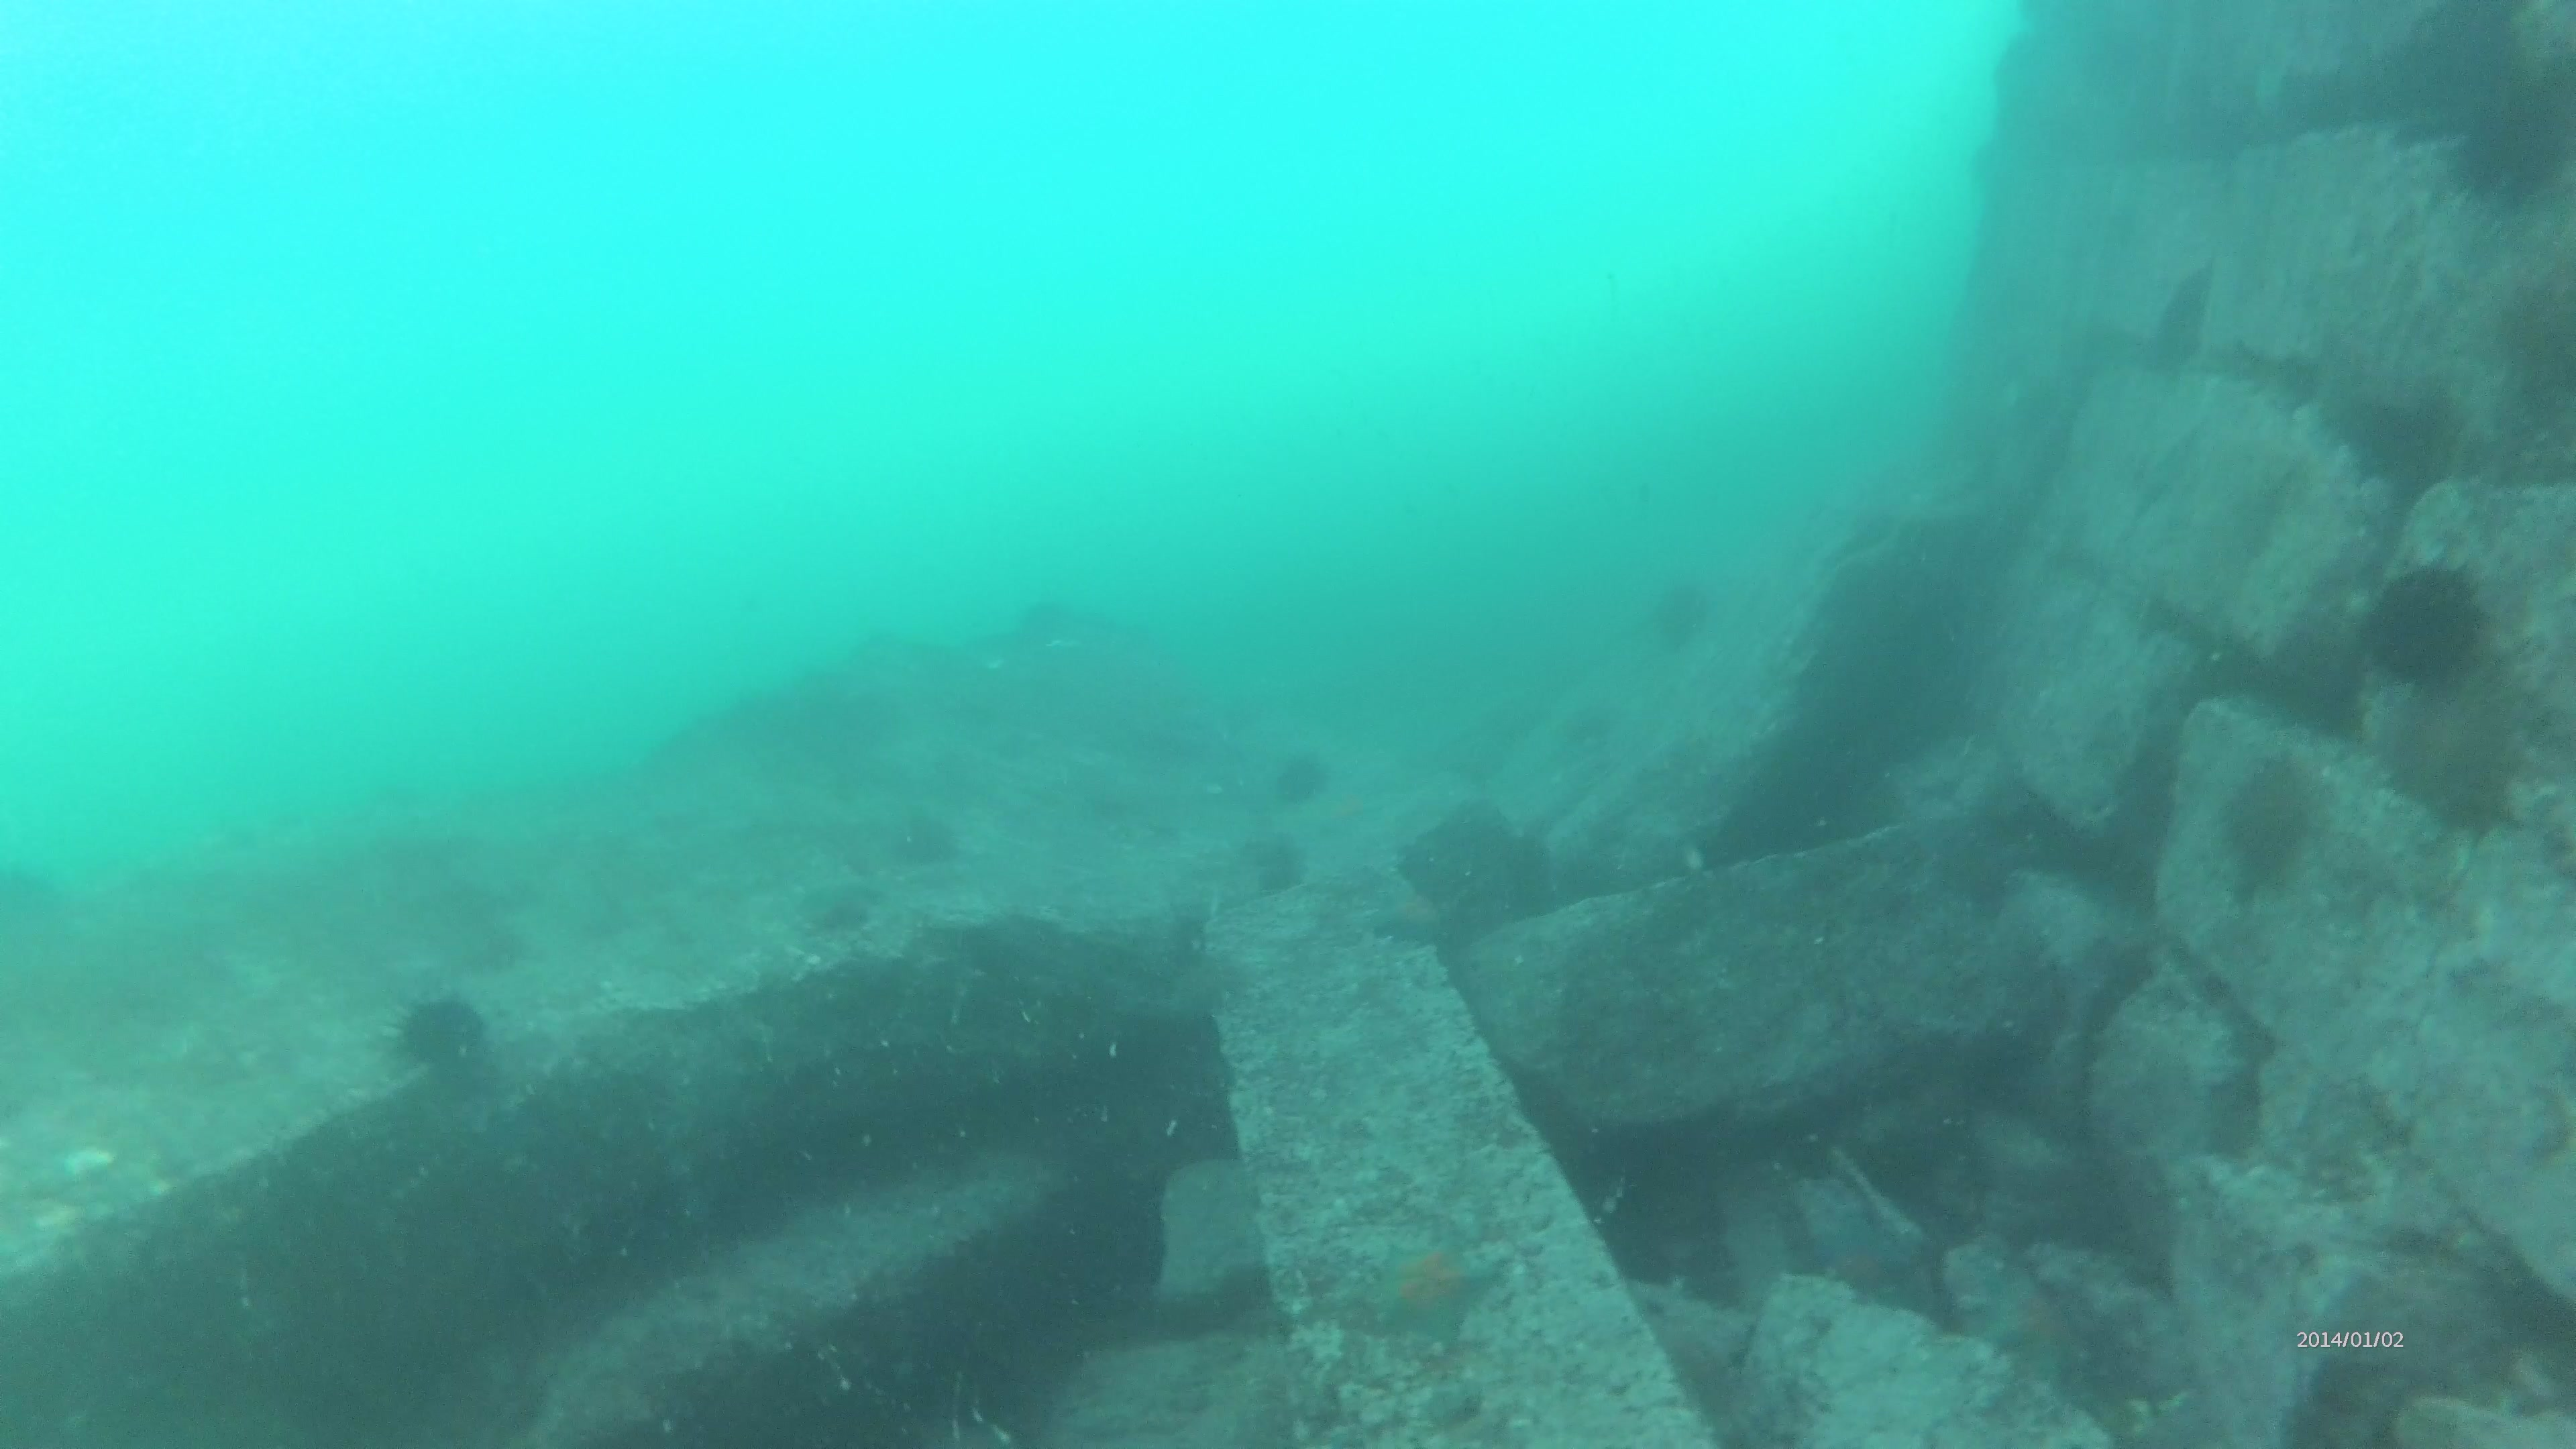echinus: (2358, 577, 2495, 683), (2434, 92, 2546, 189), (391, 1008, 488, 1063), (1274, 755, 1343, 810)
starfish: (1353, 1221, 1504, 1341)
